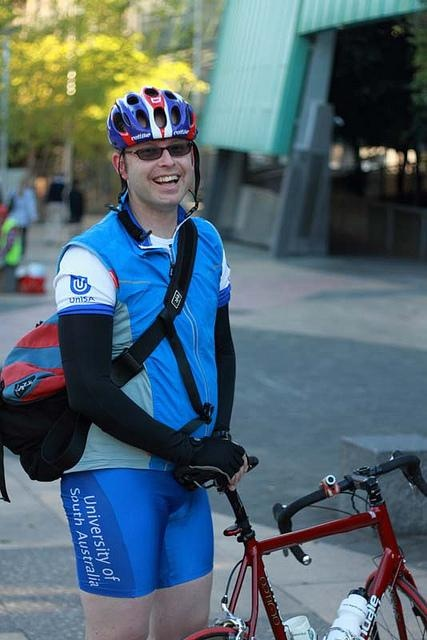person: (49, 83, 265, 640)
